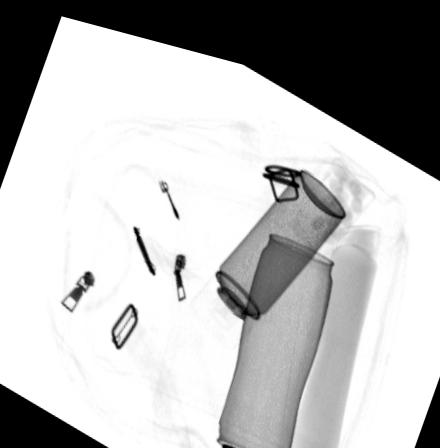Sprayer: (185, 150, 346, 340)
